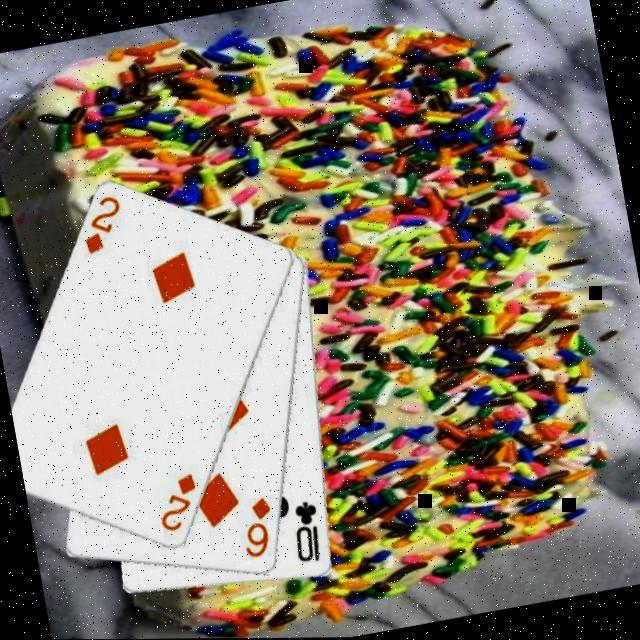10C: (287, 494, 330, 566)
2D: (151, 467, 209, 534), (75, 189, 133, 256)
6D: (235, 490, 284, 560)
